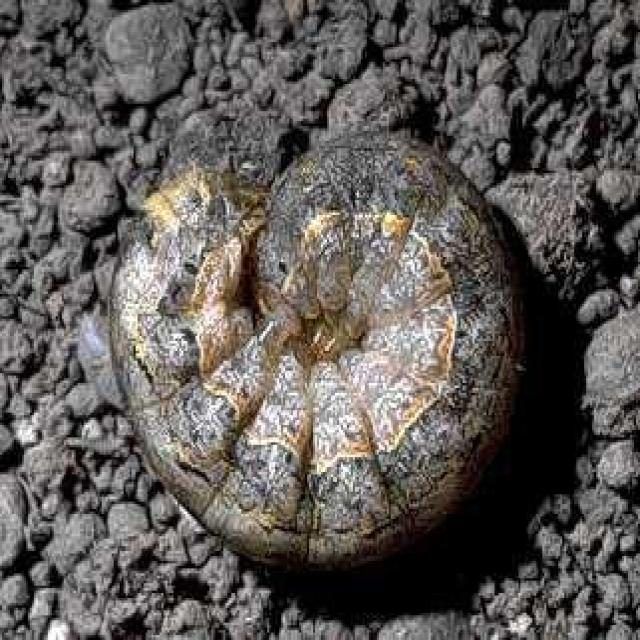black cutworm: (98, 136, 526, 578)
